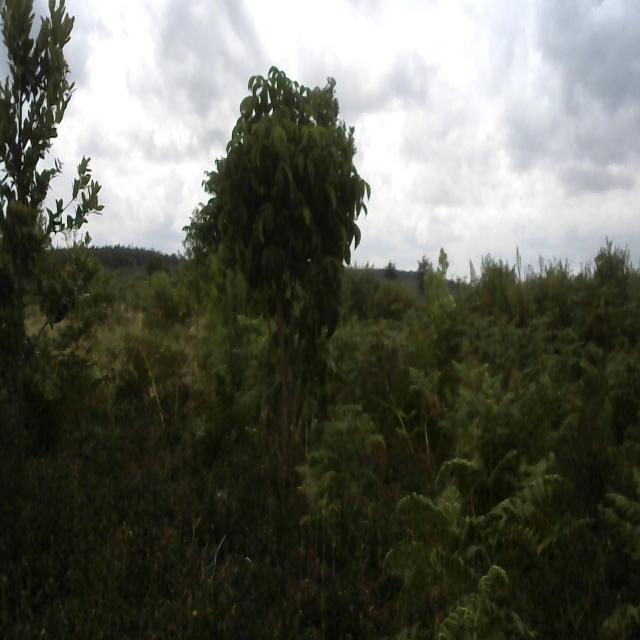other: (203, 41, 371, 575)
